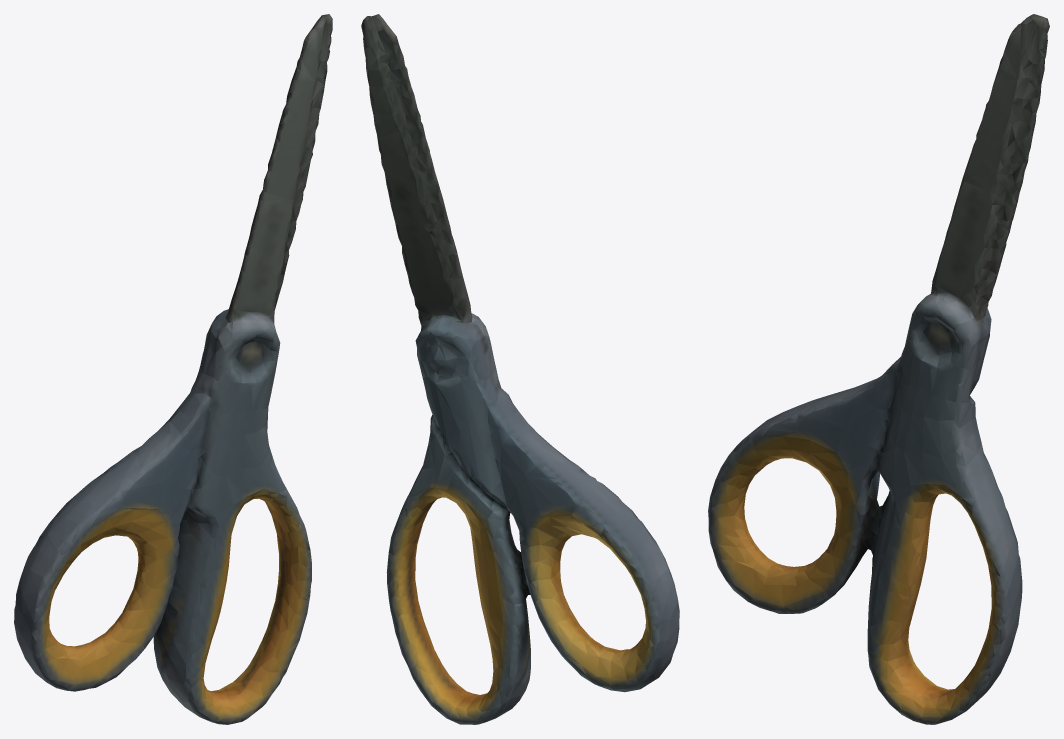
File: 037_scissors.obj
3 views of the same model, side by side, from view 1: azimuth 30°, elevation 25°; view 2: azimuth 150°, elevation 25°; view 3: azimuth 330°, elevation 25° (orthographic). The views are drawn at different scales.
Parts seen in each view (by area): view 1: textured_simple; view 2: textured_simple; view 3: textured_simple.
Part boxes in pixels (box(x1,y1,x2,y2)): textured_simple: box(14, 14, 332, 724); textured_simple: box(361, 14, 679, 724); textured_simple: box(708, 14, 1049, 724).
Bounding box in the file's own units: 0.096 × 0.2015 × 0.0157.
Materials: 1 (1 with a texture image).
